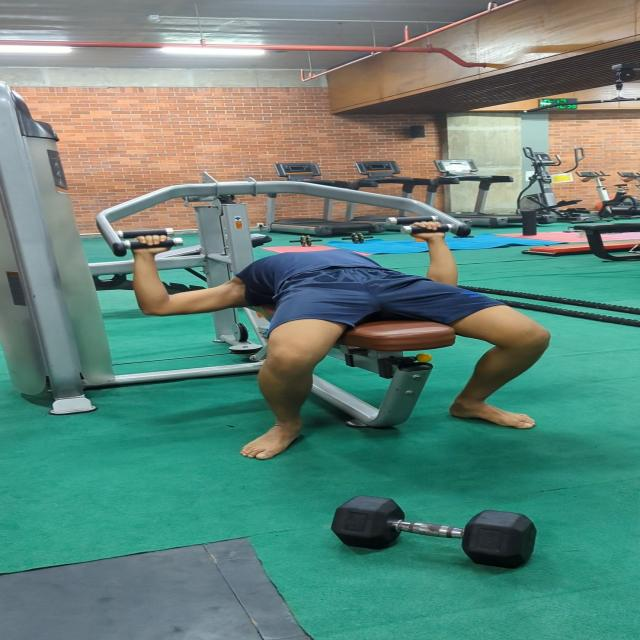Normal_BrenchPress: (89, 211, 567, 470)
